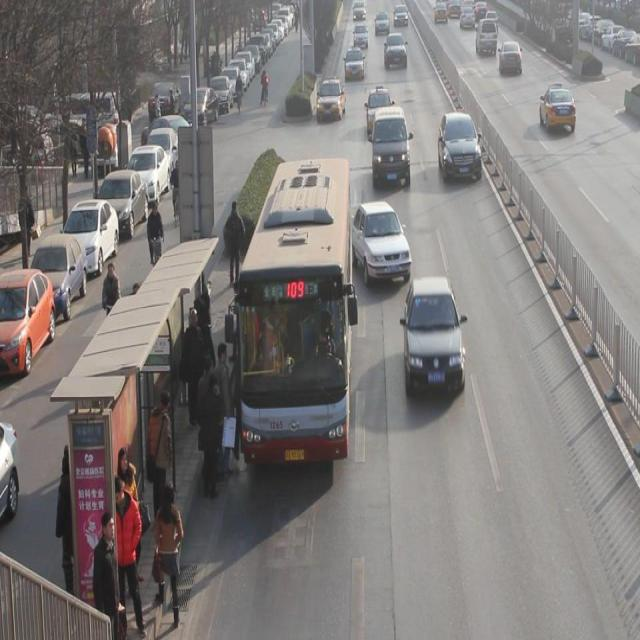car: (403, 277, 465, 395), (350, 201, 412, 285), (438, 112, 482, 182), (540, 82, 576, 134), (316, 76, 346, 122), (367, 85, 392, 137), (384, 33, 407, 69), (499, 40, 522, 75), (344, 46, 364, 80), (353, 24, 368, 47)
truck: (372, 106, 411, 188), (475, 18, 498, 55)
van: (237, 158, 348, 456)
